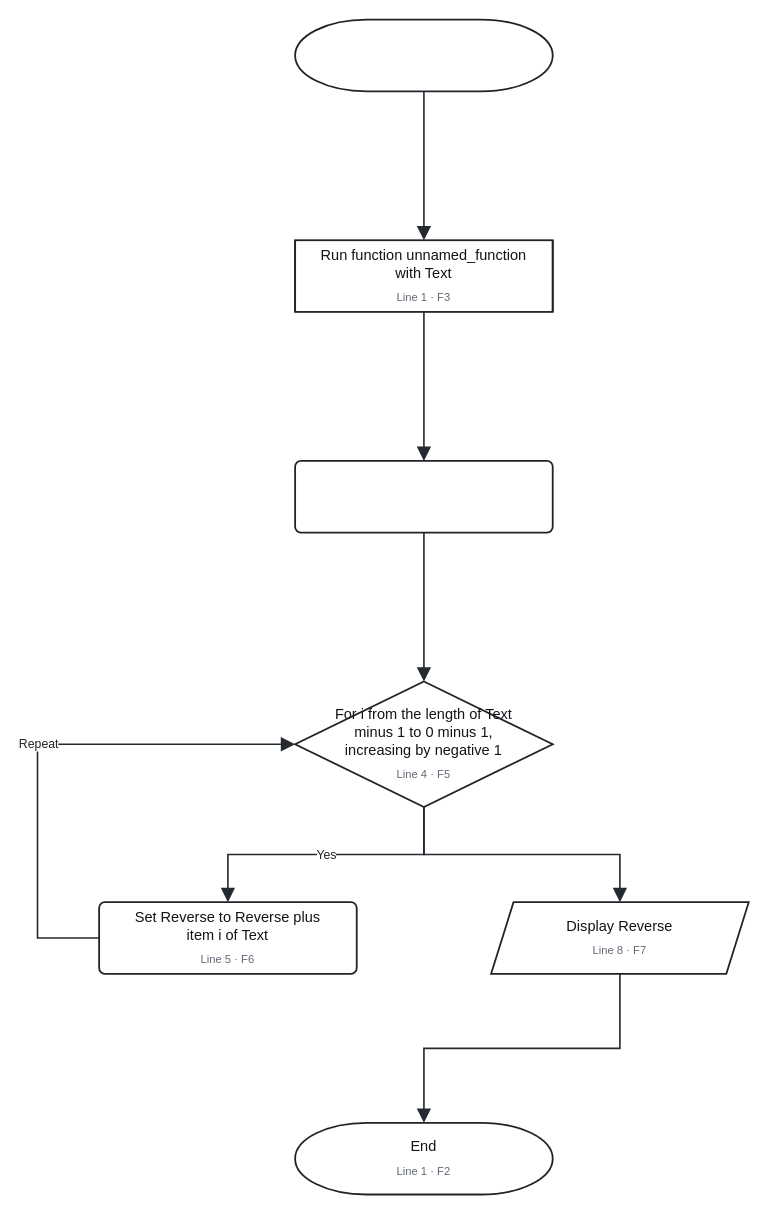
This 769x1215 diagram has some shape labels left out. Here are the shapes that lost their labels. From the top down, the box of each, then its label:
(294, 18, 553, 92): Start Line 1 · F1
(294, 459, 553, 533): Set Reverse to an empty string Line 2 · F4
